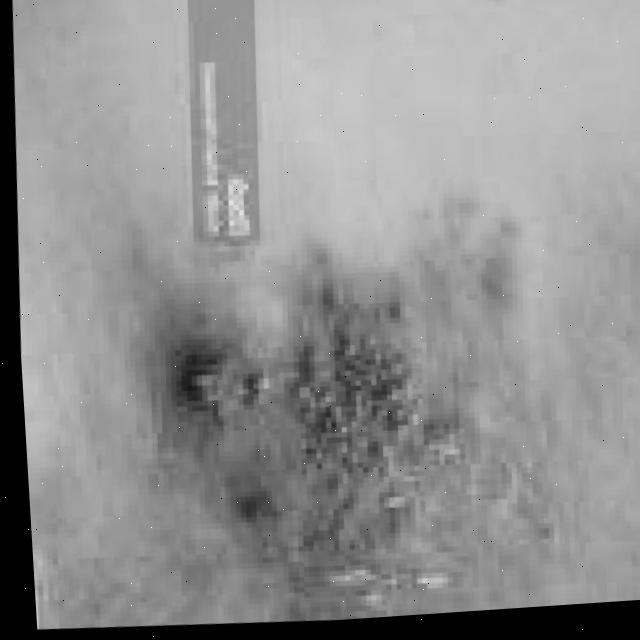Shingles: (179, 291, 485, 591)
